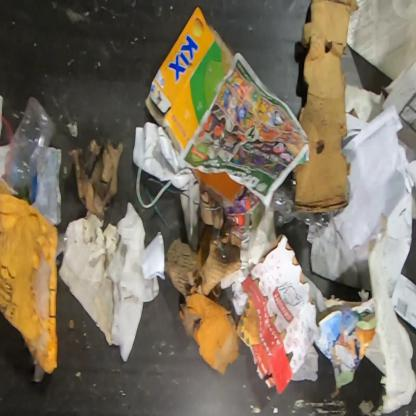cardboard: (231, 229, 321, 395), (142, 8, 233, 160), (294, 0, 358, 214), (0, 174, 60, 378), (164, 169, 243, 302), (179, 293, 262, 376), (65, 136, 126, 223)
rigid_plastic: (3, 94, 59, 187), (268, 179, 348, 228)
